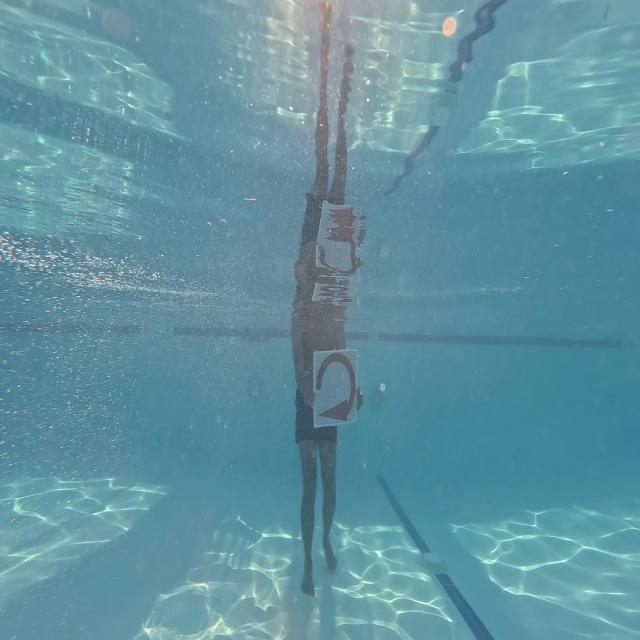red_side: (309, 345, 365, 433)
